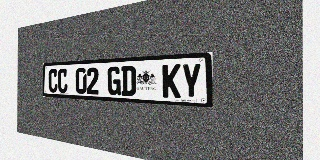0: (75, 68, 86, 94)
2: (87, 67, 98, 95)
C: (48, 69, 58, 93), (58, 68, 67, 93)
D: (121, 66, 136, 96)
G: (107, 66, 121, 96)
K: (162, 64, 181, 98)
Y: (181, 63, 201, 99)
